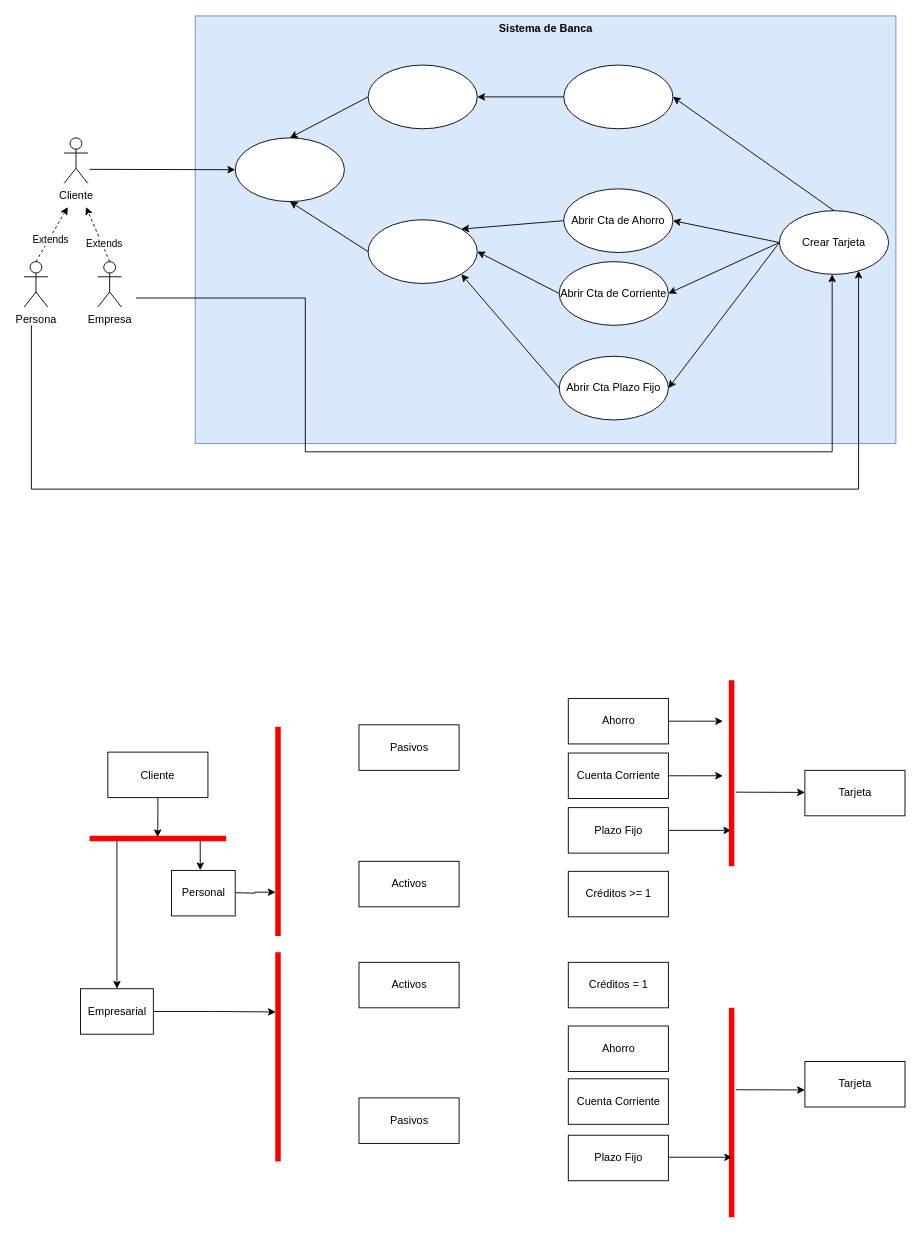
The diagram is 921 pixels wide and 1236 high, and some of its shapes have lost their labels. Each missing label, with the box of its shape:
Abrir Cta Créditos: (563, 64, 673, 129)
Abrir Cuenta: (234, 137, 344, 202)
Abrir Cuenta Bancaria (Pasivos): (367, 219, 477, 283)
Abrir Cuenta de Crédito (Activos): (367, 64, 477, 129)
